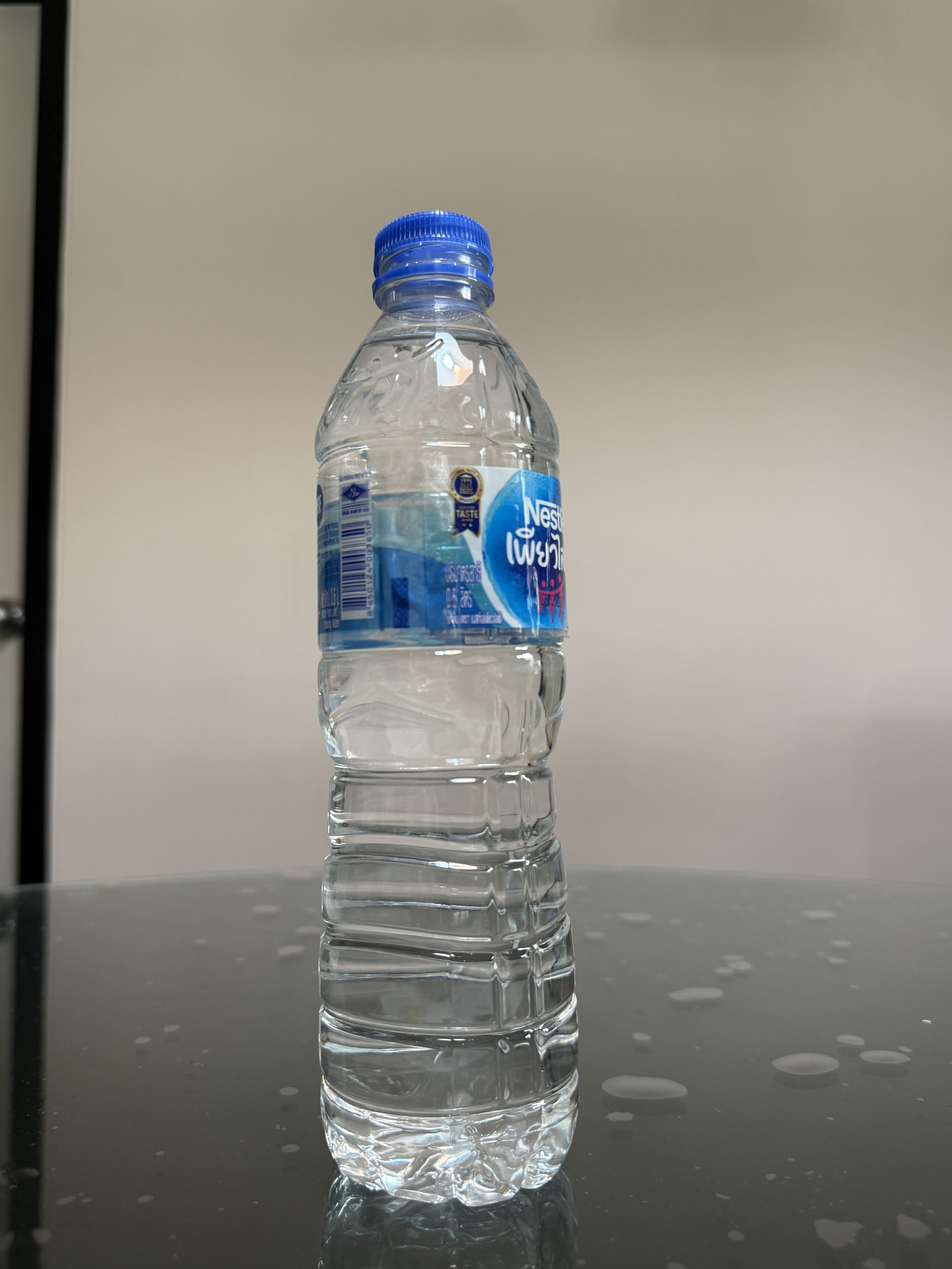half_cap: (369, 206, 497, 309)
